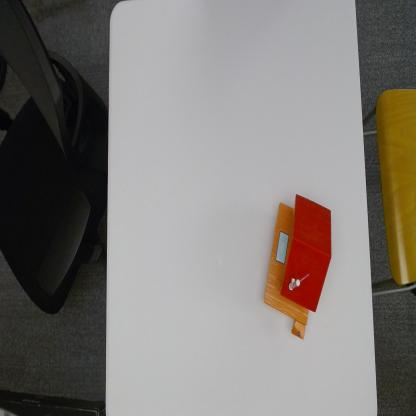House: (264, 195, 333, 345)
